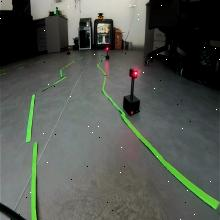red: (130, 68, 139, 79)
